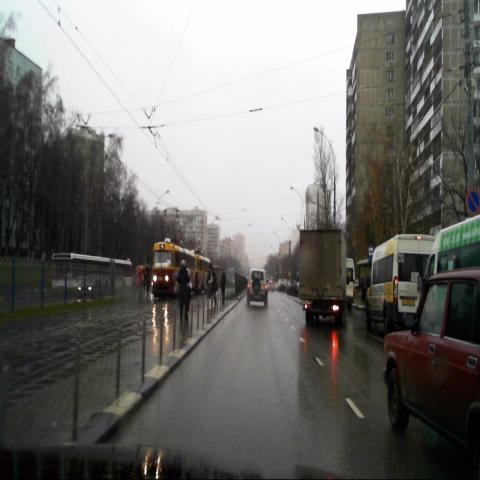3_28: (466, 188, 480, 214)
